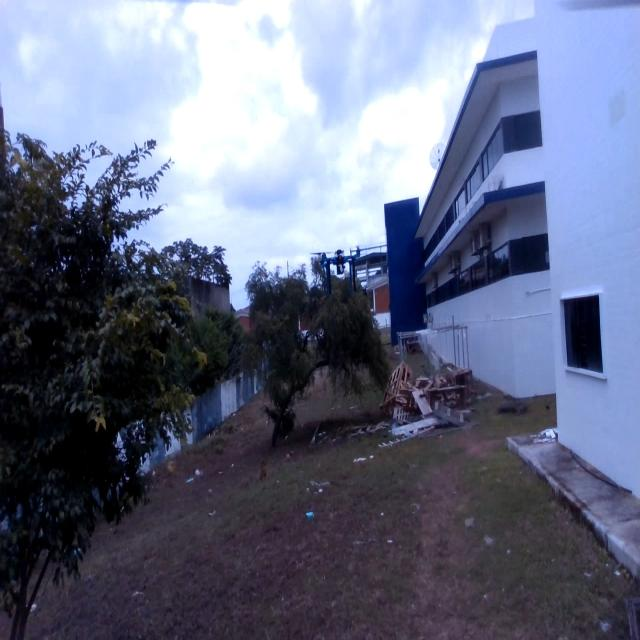-uav-: (305, 234, 375, 298)
